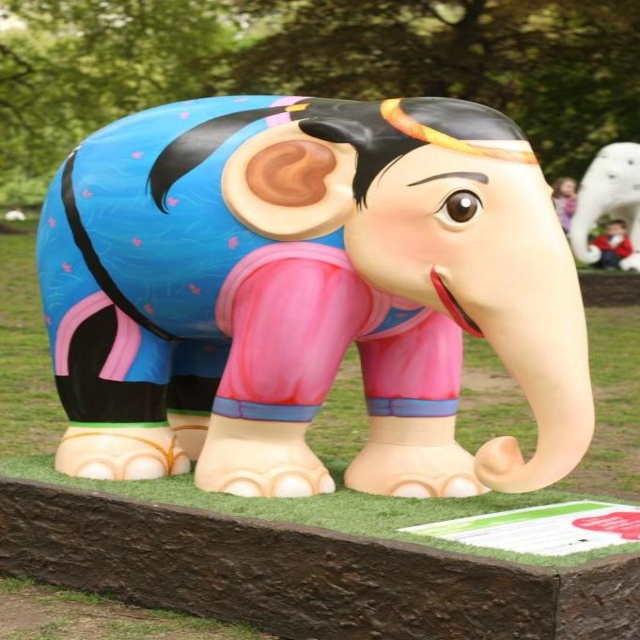Elephant: (34, 92, 593, 496)
